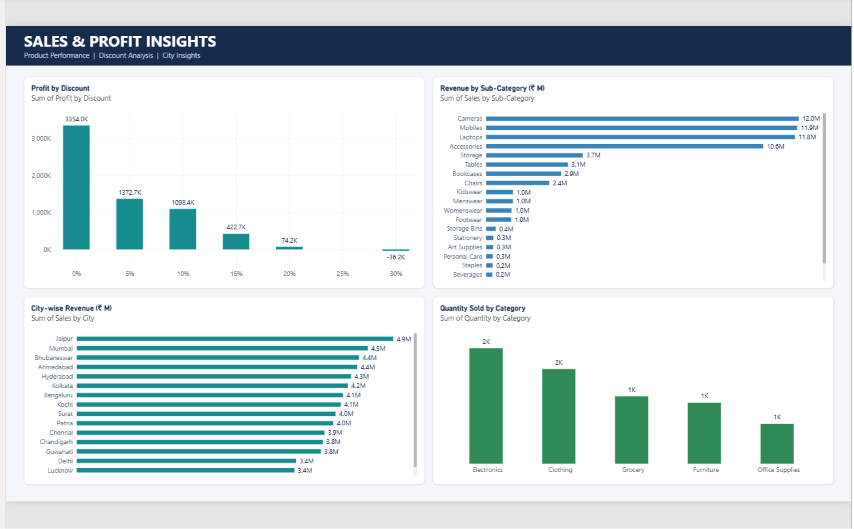

The page's visual inventory and layout, read from the dashboard file:
{"tool":"powerbi","page":{"name":"Sales & Profit Insights","canvas":[1920,1080],"ordinal":1},"visuals":[{"type":"shape","box":[0,0,1920,90],"z":0},{"type":"textbox","box":[40,8,1100,76],"z":1},{"type":"clusteredColumnChart","title":"Profit by Discount","fields":{"Category":["retail_sales.Discount"],"Y":["Sum(retail_sales.Profit)"]},"box":[40,115,910,480],"z":2},{"type":"clusteredBarChart","title":"Revenue by Sub-Category (₹ M)","fields":{"Category":["retail_sales.Sub-Category"],"Y":["Sum(retail_sales.Sales)"]},"box":[970,115,910,480],"z":3},{"type":"clusteredBarChart","title":"City-wise Revenue (₹ M)","fields":{"Category":["retail_sales.City"],"Y":["Sum(retail_sales.Sales)"]},"box":[40,615,910,425],"z":4},{"type":"clusteredColumnChart","title":"Quantity Sold by Category","fields":{"Category":["retail_sales.Category"],"Y":["Sum(retail_sales.Quantity)"]},"box":[970,615,910,425],"z":5}]}

Visuals, with their boxes on the page's 1920x1080 design canvas (x1, y1, x2, y2). These are canvas units, not pixel positions in the 854x529 screenshot, which may show the page scaled, cropped or inside an application window:
shape: locate(0, 0, 1920, 90)
textbox: locate(40, 8, 1140, 84)
"Profit by Discount" clusteredColumnChart: locate(40, 115, 950, 595)
"Revenue by Sub-Category (₹ M)" clusteredBarChart: locate(970, 115, 1880, 595)
"City-wise Revenue (₹ M)" clusteredBarChart: locate(40, 615, 950, 1040)
"Quantity Sold by Category" clusteredColumnChart: locate(970, 615, 1880, 1040)
